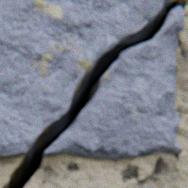broken_brick: (0, 0, 175, 156), (43, 8, 182, 159)
crack: (1, 0, 186, 187)
